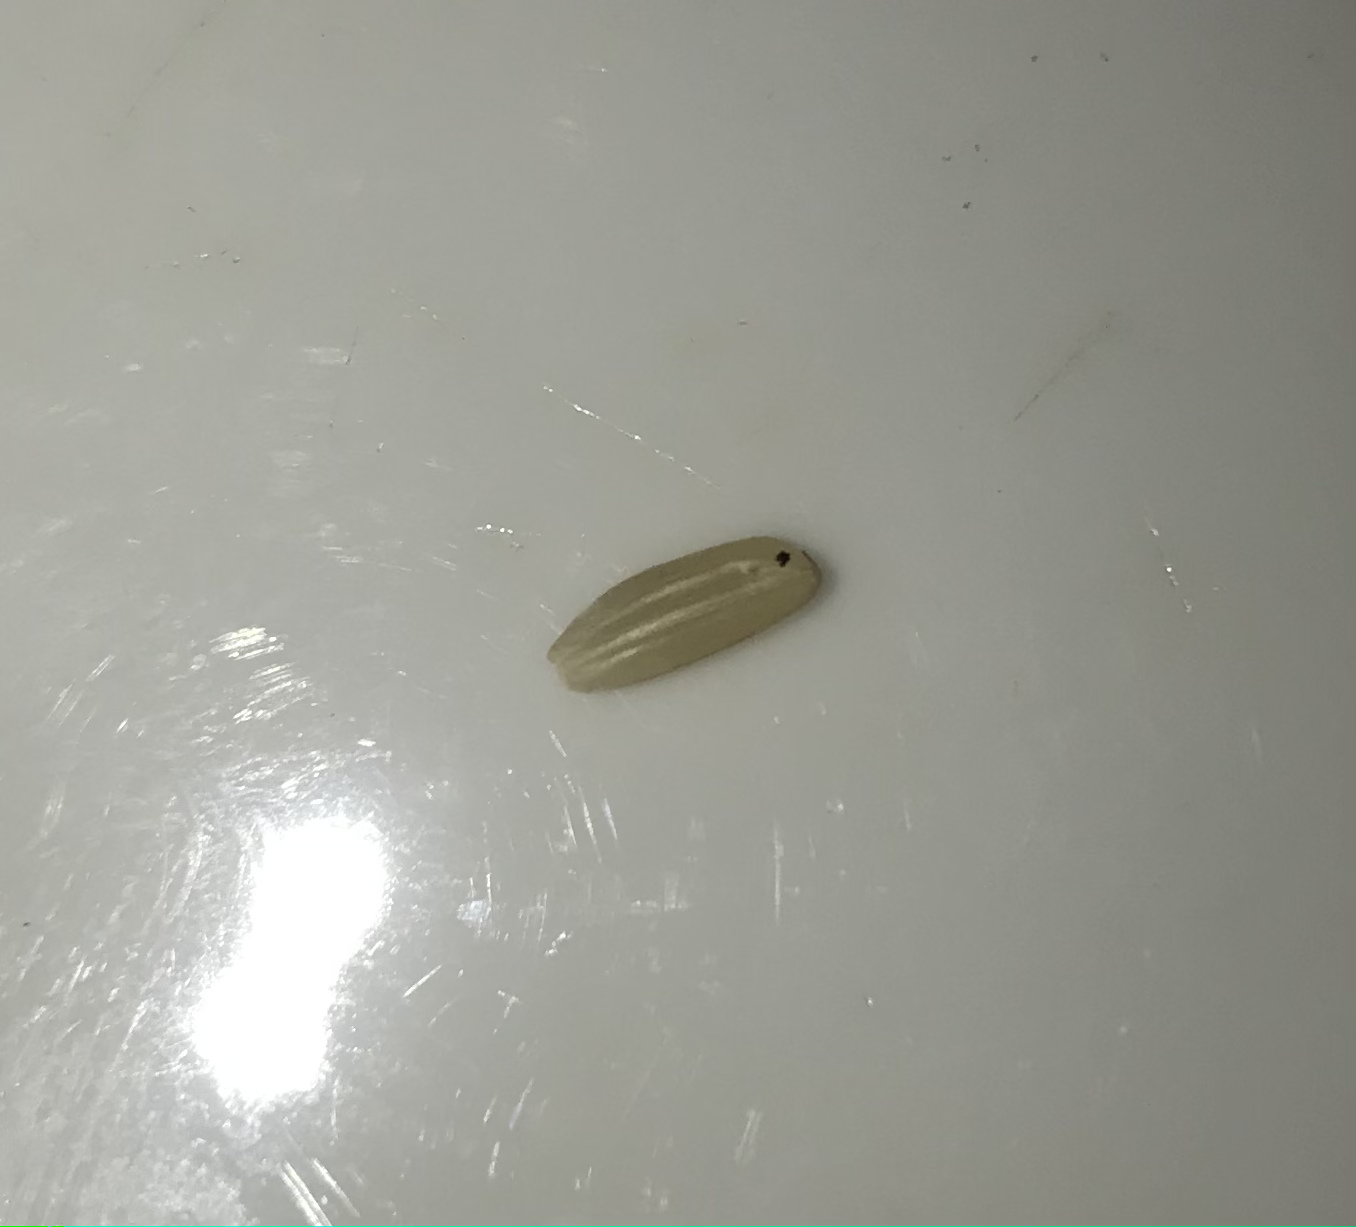Gao Lut Trang: (533, 516, 840, 697)
